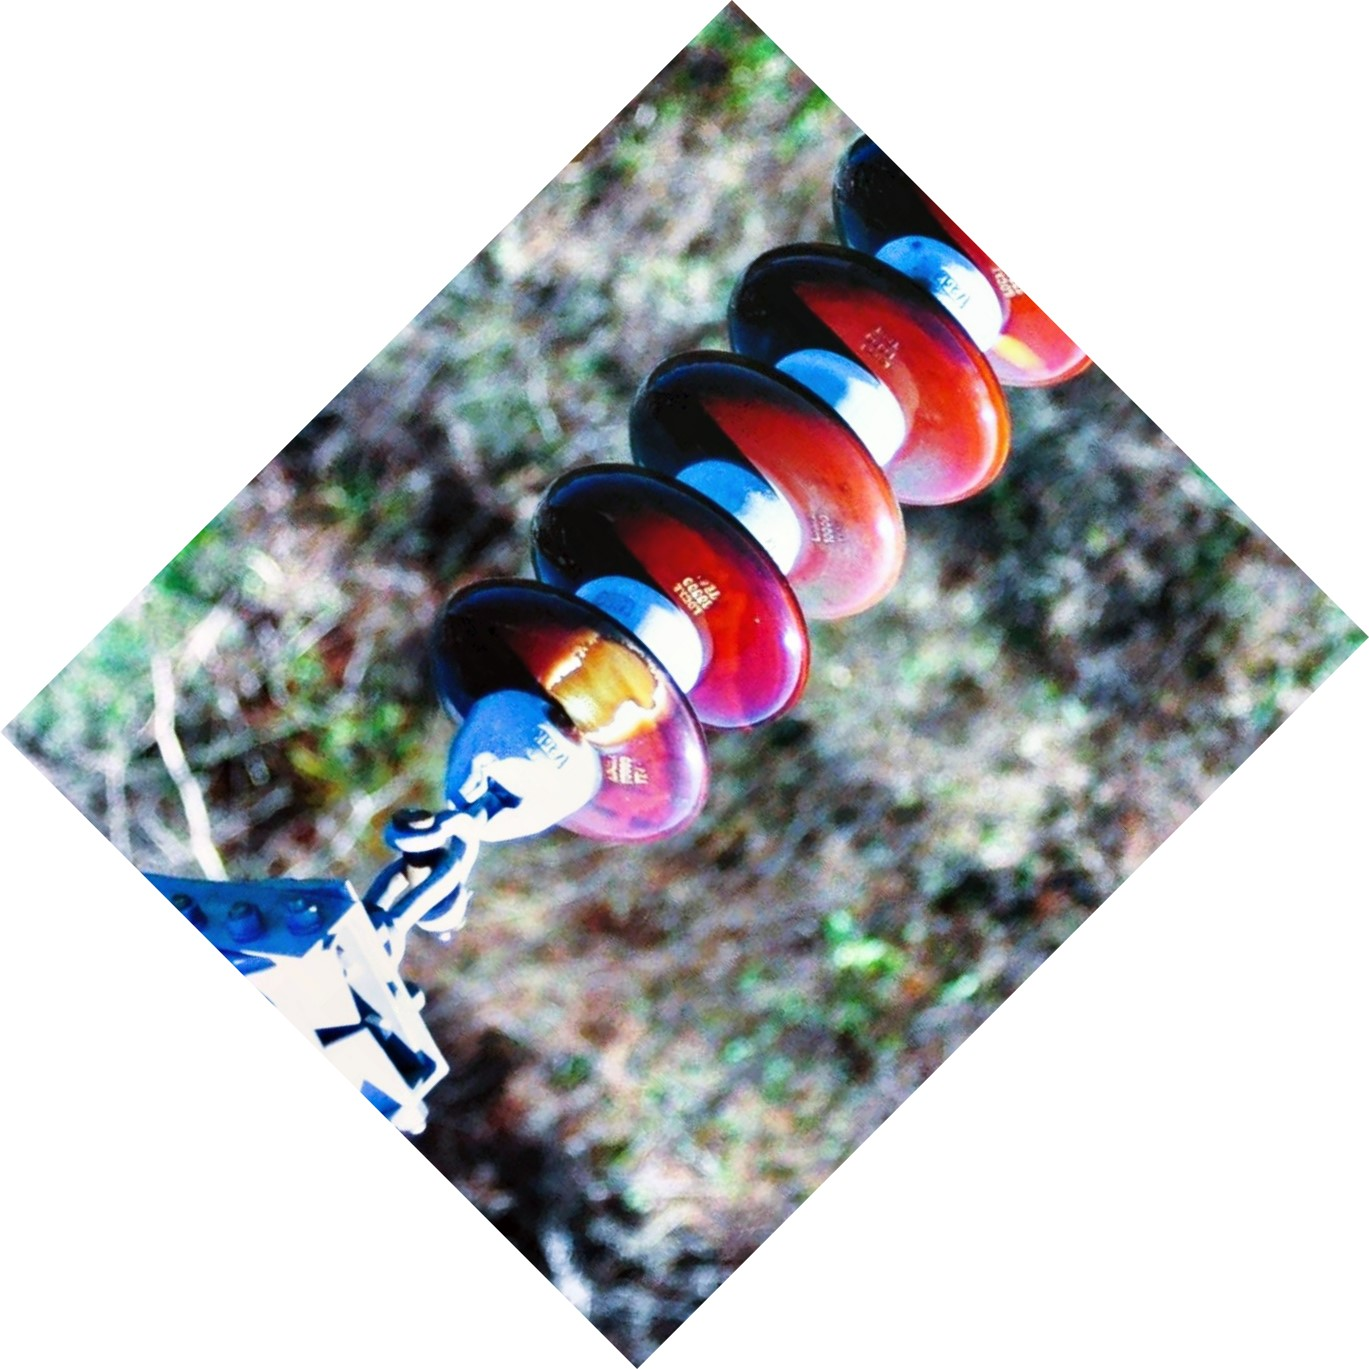Insulator flashover: (410, 562, 716, 866)
